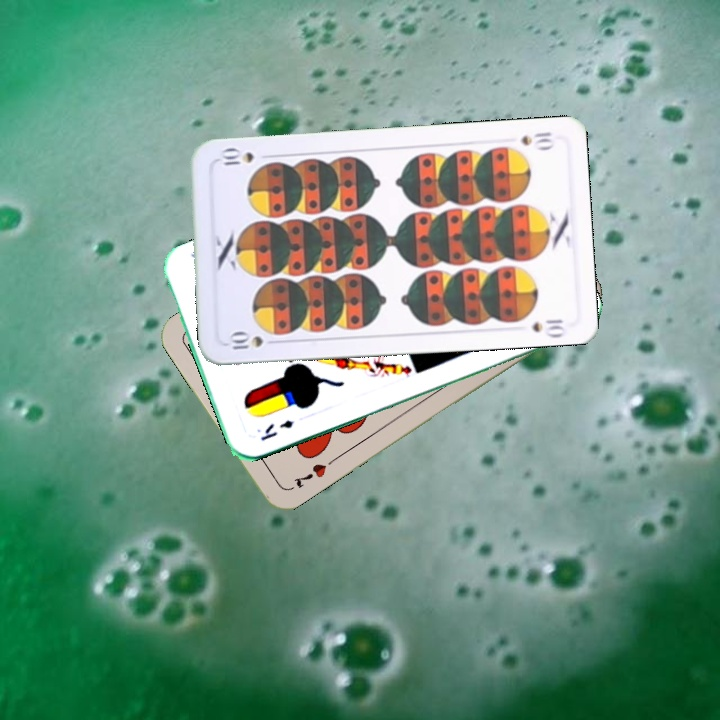EK: (256, 415, 296, 444)
H7: (289, 454, 337, 491)
S10: (224, 329, 282, 353), (517, 128, 557, 152)
